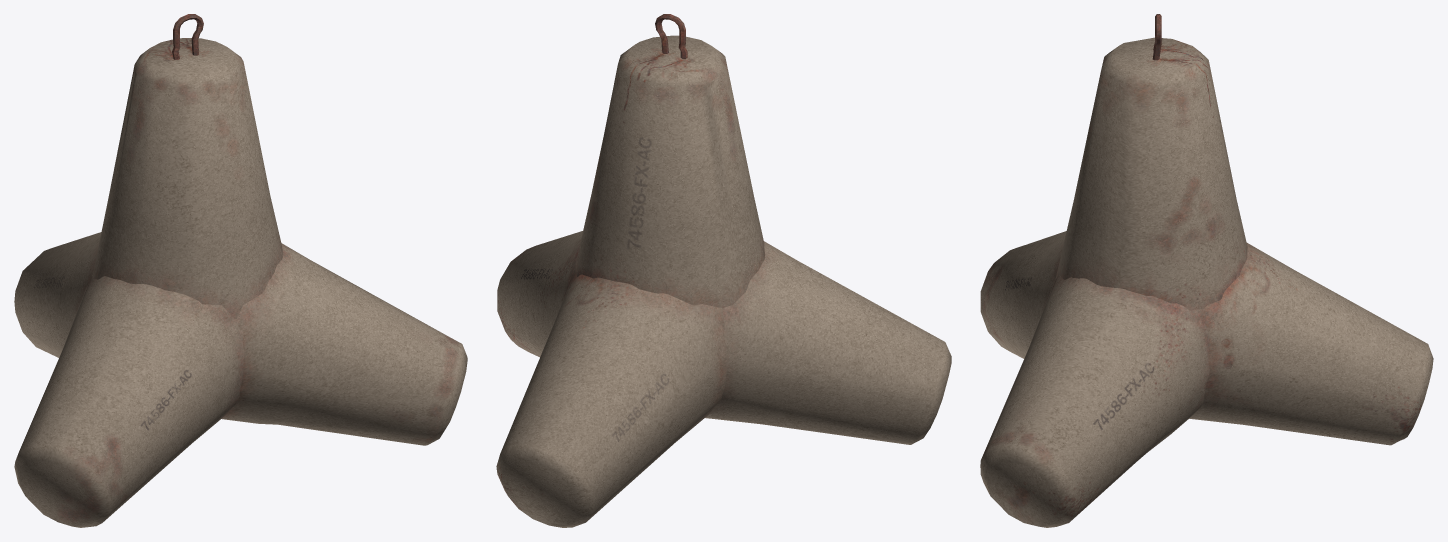
Rendered from ETC0610039.fbx.
3 renders of one model, left to right at view 1: azimuth 30°, elevation 25°; view 2: azimuth 150°, elevation 25°; view 3: azimuth 270°, elevation 25°, orthographic.
Parts seen in each view (by area): view 1: smETC0610039; view 2: smETC0610039; view 3: smETC0610039.
Part boxes in pixels (x1=…): smETC0610039: x1=14, y1=14, x2=467, y2=527; smETC0610039: x1=496, y1=14, x2=951, y2=527; smETC0610039: x1=980, y1=14, x2=1433, y2=527.
Size of the model in its own units: 105 by 96.65 by 93.5.
Materials: 1 (1 with a texture image).
